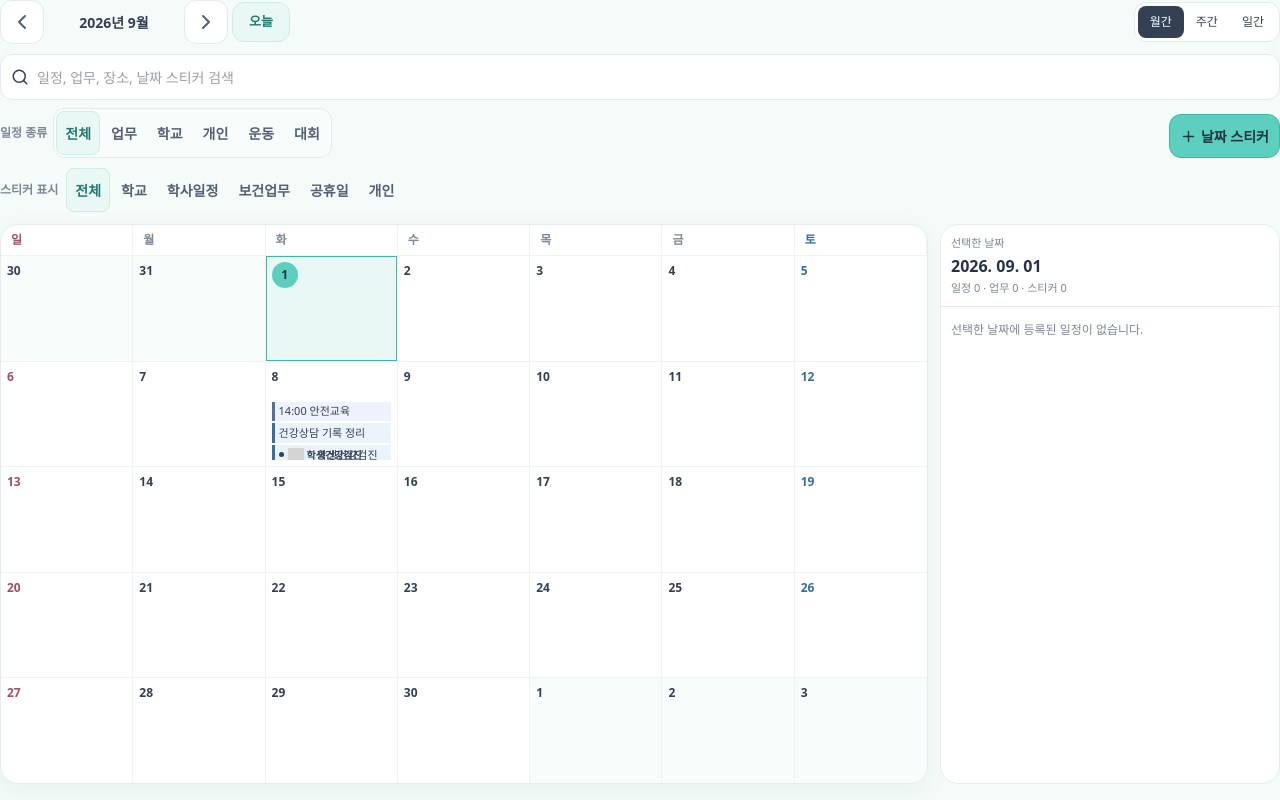
Test: CalendarWorkspace mobile date detail › opens the selected mobile month date in a titled detail sheet with populated content
Step 1. Click the button named "2026-09-08 선택" → (331, 384), box [272,368,391,400]
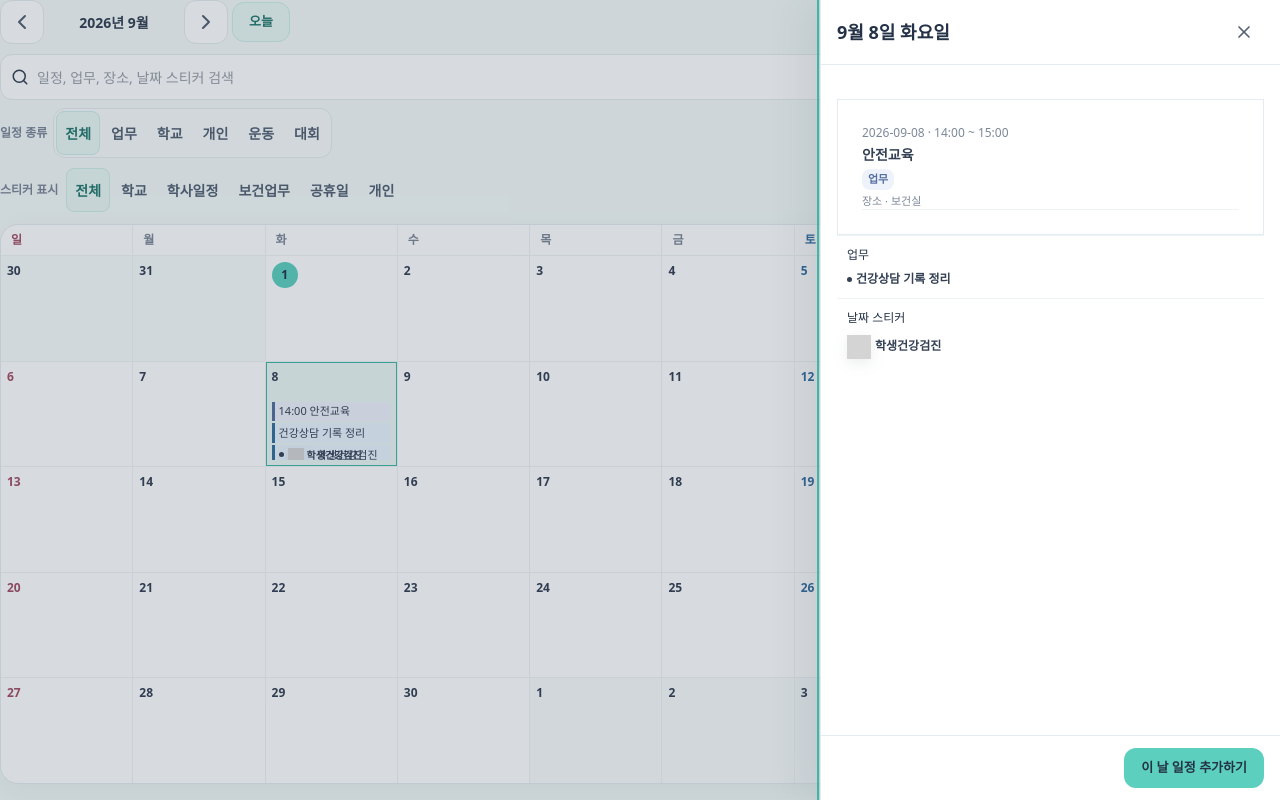
Expected: the dialog "9월 8일 화요일" shows "14:00 ~ 15:00", [934,124,1009,141]
Expected: the dialog "9월 8일 화요일" shows "안전교육", [862,145,914,164]
Expected: the text "업무" is shown, [862,169,894,190]
